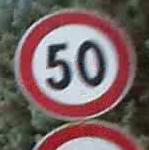limite 50: (12, 6, 137, 119)
